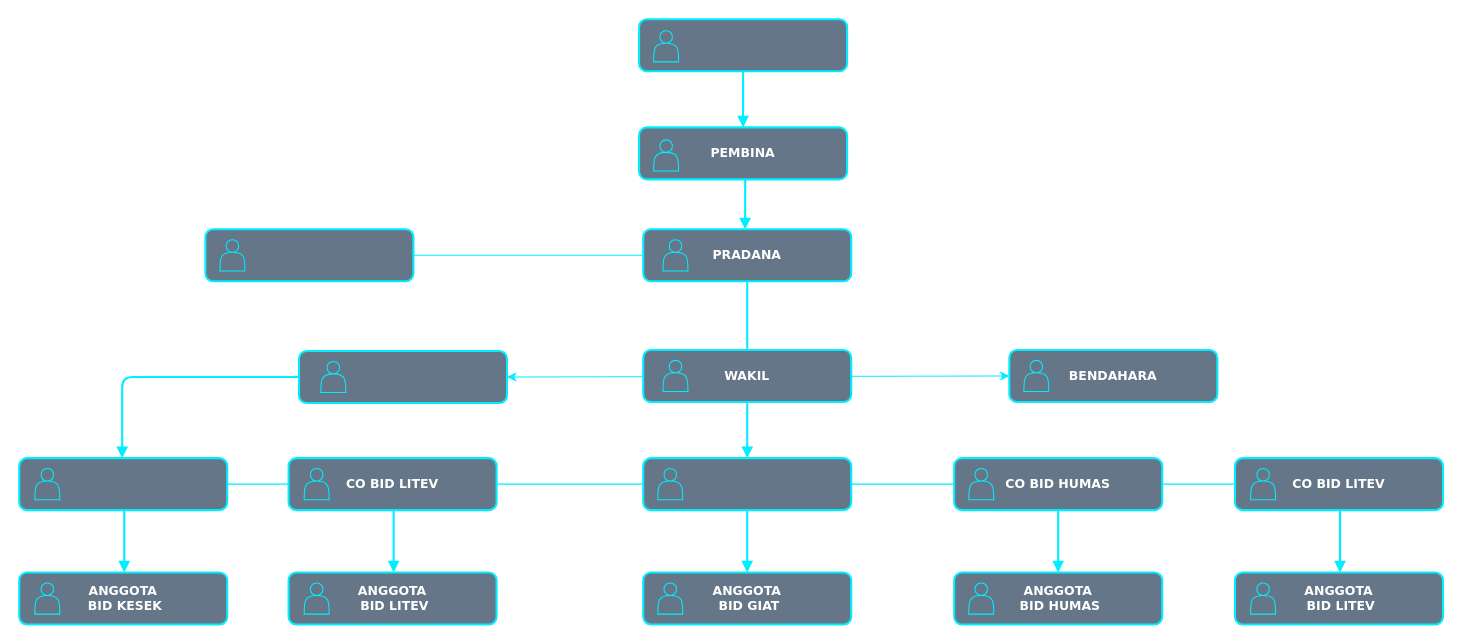
Image size: 1461x643. Some labels were removed from this diagram. Here are the shapes that lost their labels. From the top down, the box of each, then its label:
(638, 18, 848, 72): KAMABIGUS
(204, 228, 414, 282): Pemangku Adat
(297, 349, 508, 404): KERANI
(18, 457, 228, 511): CO BID KESEK
(642, 457, 852, 511): CO BID GIAT
